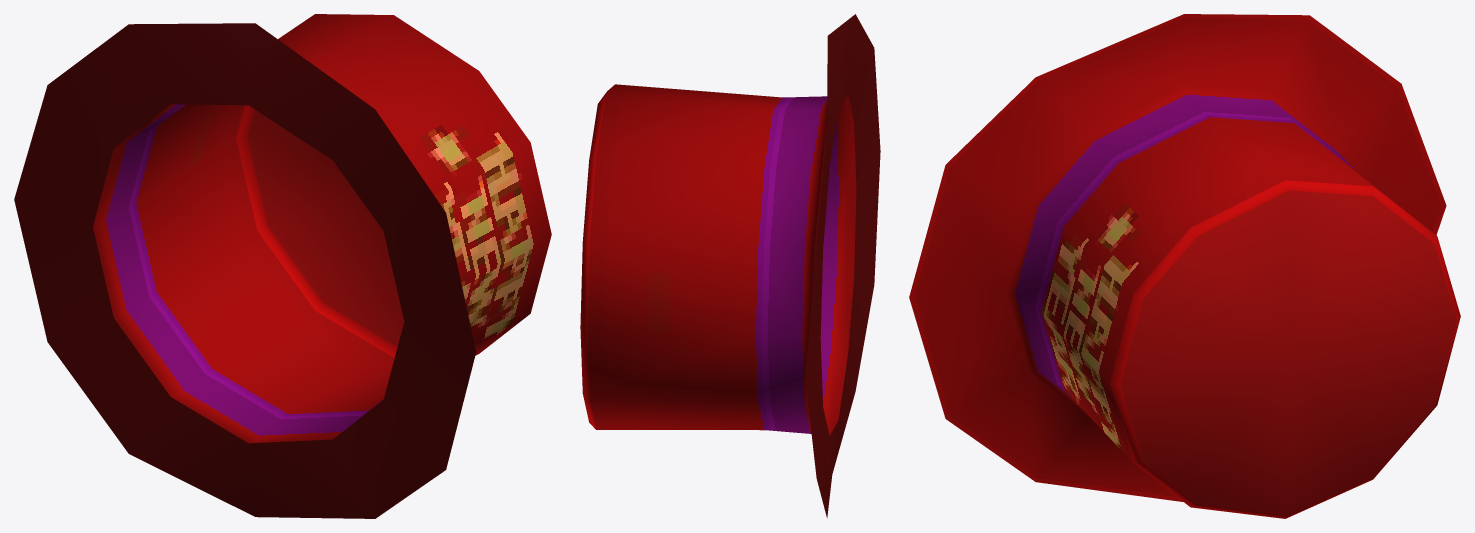
The model's file is cap_newyear_hat.dae.
3 renders of one model, left to right at view 1: azimuth 30°, elevation 25°; view 2: azimuth 150°, elevation 25°; view 3: azimuth 270°, elevation 25°, orthographic. The views are drawn at different scales.
Visible parts, largest first — view 1: cap_newyear_hat; view 2: cap_newyear_hat; view 3: cap_newyear_hat.
Part boxes in pixels (box(x1,y1,x2,y2)): cap_newyear_hat: box(14, 14, 551, 518); cap_newyear_hat: box(580, 14, 880, 518); cap_newyear_hat: box(909, 14, 1460, 518).
Size of the model in its own units: 24.28 by 30.89 by 31.64.
1 material, 1 textured.
